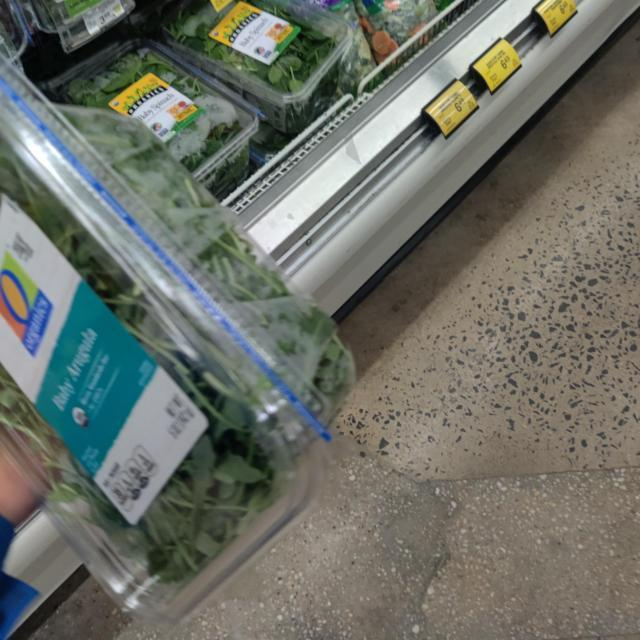Salad: (0, 106, 359, 621), (46, 43, 258, 191), (158, 0, 355, 122)
